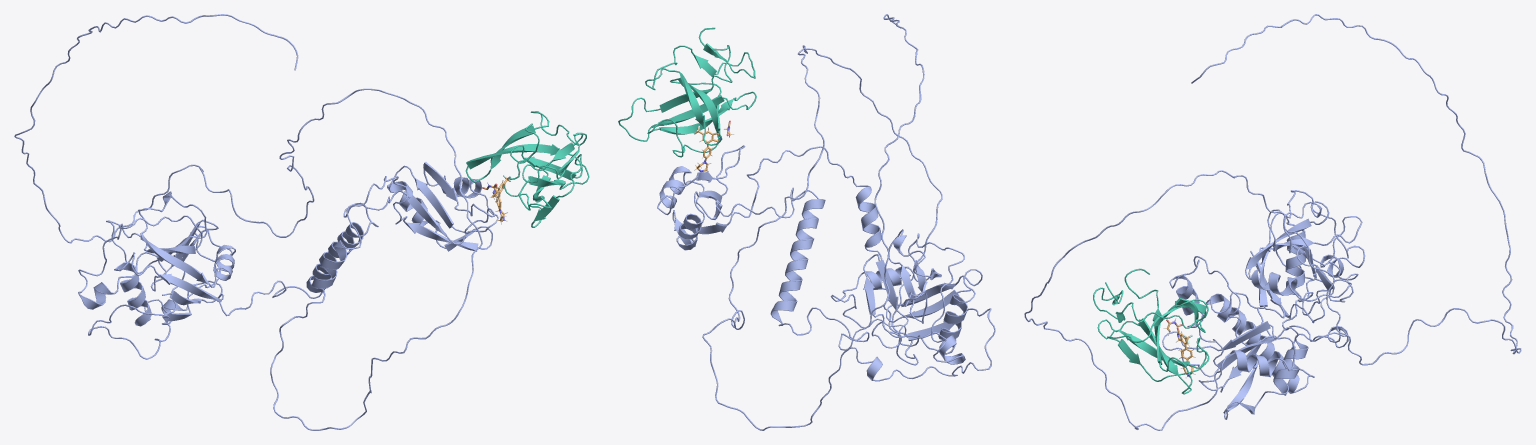
The picture shows the model from 3 angles, left to right: view 1: azimuth 30°, elevation 25°; view 2: azimuth 150°, elevation 25°; view 3: azimuth 270°, elevation 25°; orthographic projection. The views are drawn at different scales.
Parts seen in each view (by area): view 1: node-geom96, node-geom97; view 2: node-geom96, node-geom97; view 3: node-geom96, node-geom97.
Part boxes in pixels (<box>): node-geom96: <box>78,111,589,359</box>; node-geom97: <box>14,14,498,430</box>; node-geom96: <box>618,27,995,381</box>; node-geom97: <box>657,14,942,430</box>; node-geom96: <box>1093,190,1365,394</box>; node-geom97: <box>1024,14,1521,430</box>.
Bounding box in the file's own units: 126 × 106 × 126.
